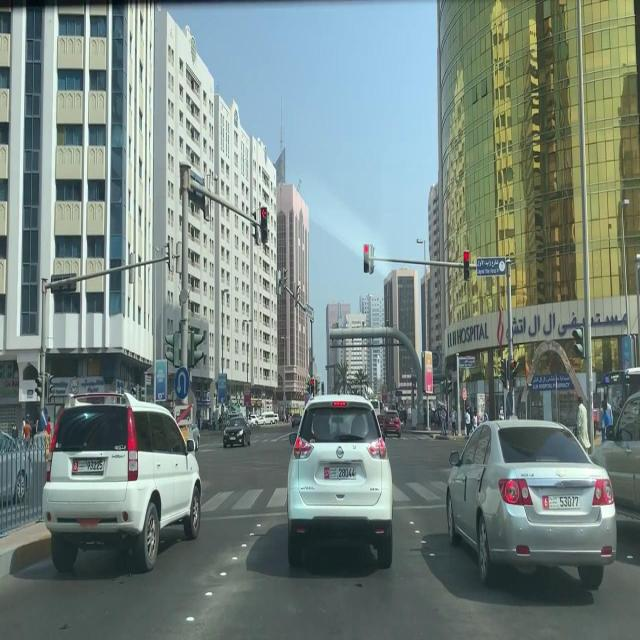License-plate: (542, 492, 581, 513), (71, 458, 106, 475), (324, 466, 357, 480)
